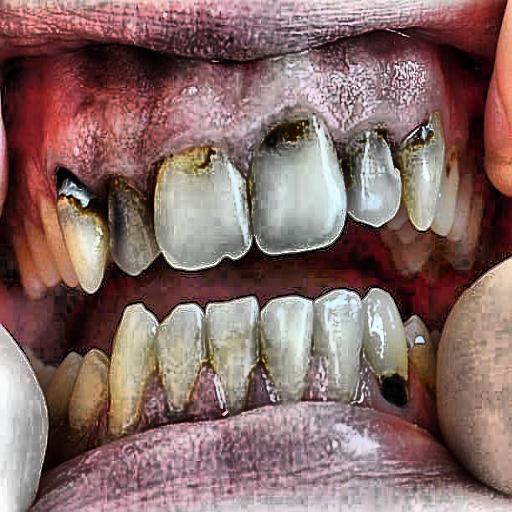Calculus: (28, 128, 465, 231)
